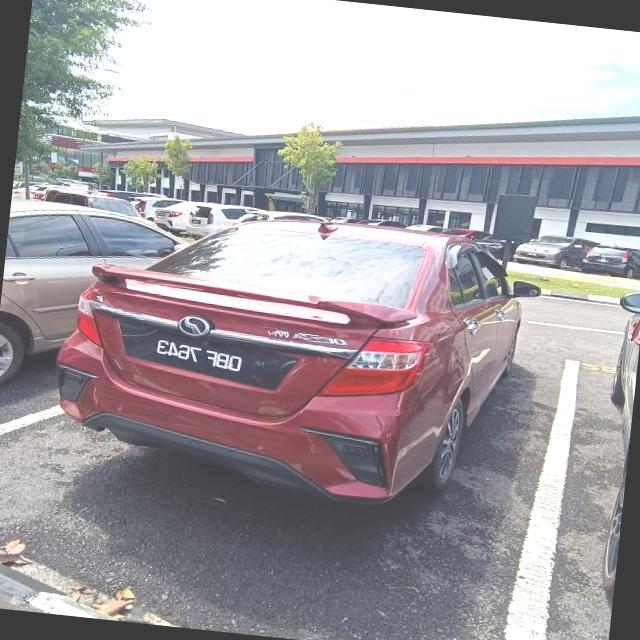PeroduaBezza: (43, 188, 547, 522)
